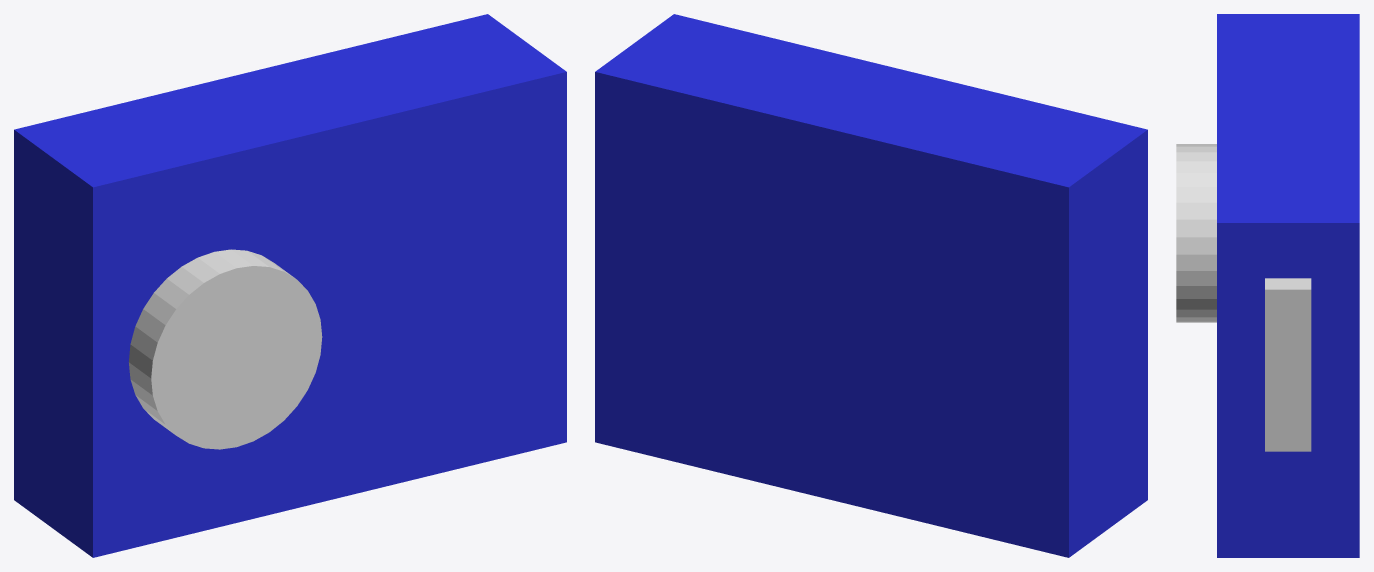
3 views of the same model, side by side, from view 1: azimuth 30°, elevation 25°; view 2: azimuth 150°, elevation 25°; view 3: azimuth 270°, elevation 25° (orthographic). The views are drawn at different scales.
Visible parts, largest first — view 1: CubePrincipal, Cylindre; view 2: CubePrincipal; view 3: CubePrincipal, Cube, Cylindre.
Part boxes in pixels (x1,y1,x2,y2): CubePrincipal: [14, 14, 566, 557]; Cylindre: [128, 249, 322, 449]; CubePrincipal: [595, 14, 1147, 557]; CubePrincipal: [1217, 14, 1359, 557]; Cube: [1265, 278, 1311, 451]; Cylindre: [1176, 144, 1216, 322].
Size of the model in its own units: 5.85 by 4.14 by 2.05.
